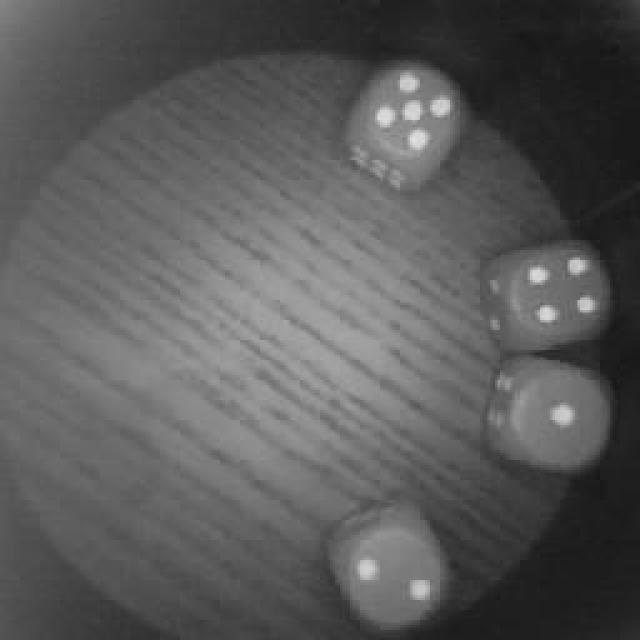dice_1: (490, 350, 615, 478)
dice_2: (327, 503, 455, 635)
dice_4: (478, 232, 612, 350)
dice_5: (345, 47, 470, 175)
